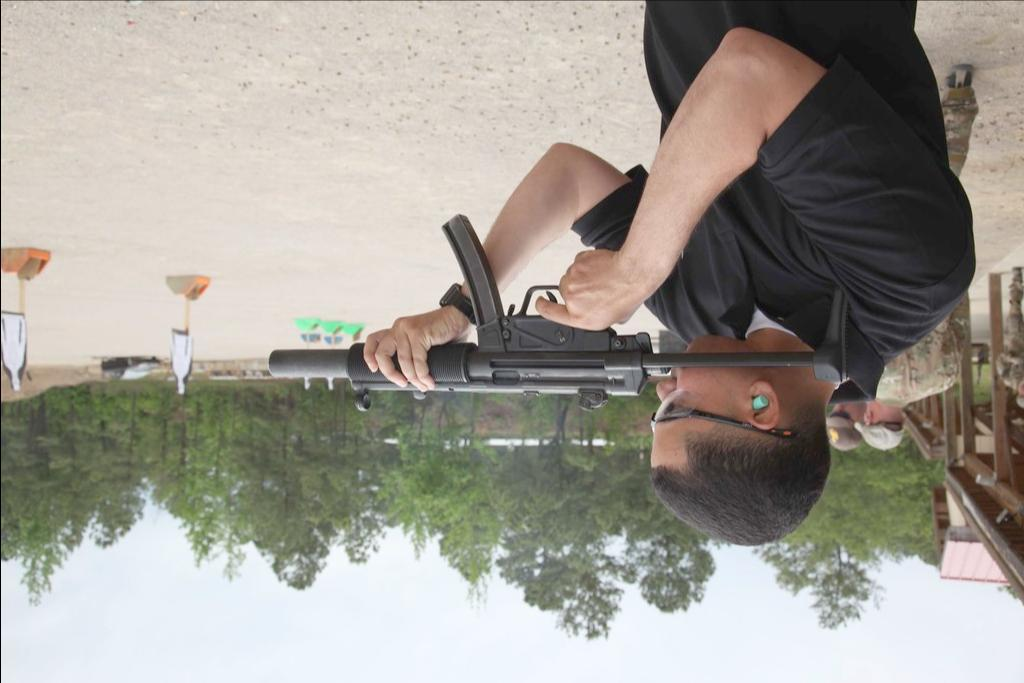gun: (270, 213, 844, 413)
